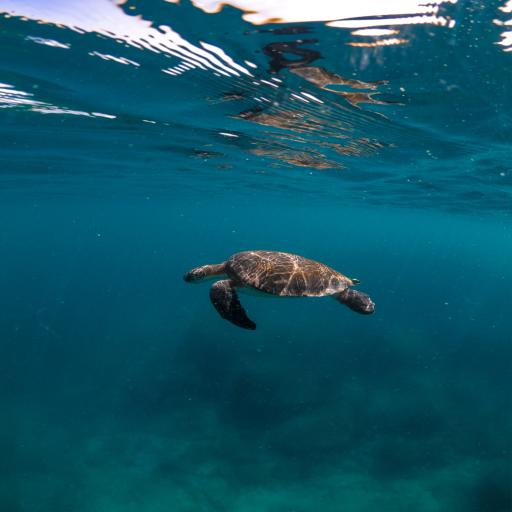turtles: (183, 240, 403, 332)
